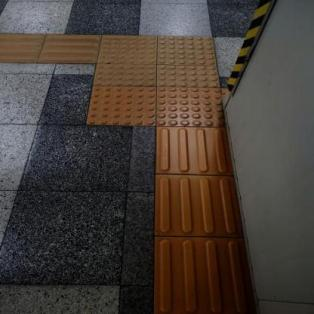Podoctatil: (65, 10, 245, 178), (157, 128, 255, 313), (0, 34, 97, 62)
